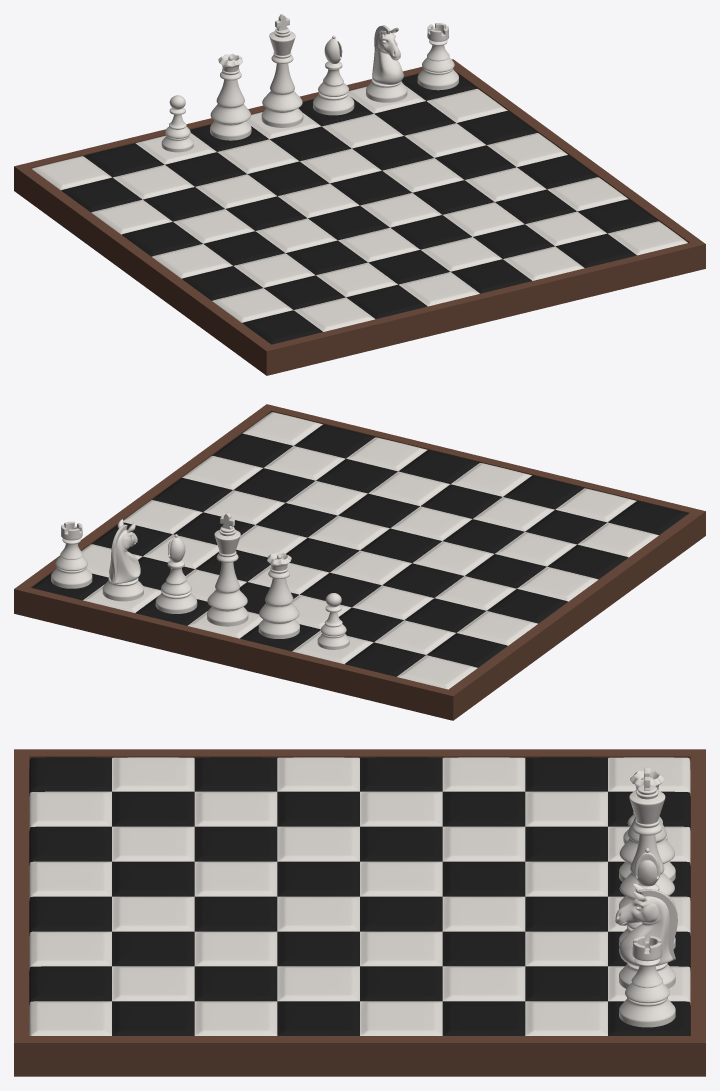
Rendered from chessBoard.fbx.
3 views of the same model, one above another, from view 1: azimuth 30°, elevation 25°; view 2: azimuth 150°, elevation 25°; view 3: azimuth 270°, elevation 25° (orthographic). The views are drawn at different scales.
Parts seen in each view (by area): view 1: Plane.001, Board border, King, Queen, Knight, Bishop, Tower, Pawn; view 2: Plane.001, Board border, King, Queen, Knight, Bishop, Tower, Pawn; view 3: Plane.001, Board border, Knight, Tower, King, Queen, Bishop.
Part boxes in pixels (x1=…): Plane.001: x1=32, y1=74, x2=687, y2=344; Board border: x1=14, y1=59, x2=705, y2=375; King: x1=261, y1=14, x2=303, y2=127; Queen: x1=210, y1=54, x2=251, y2=140; Knight: x1=366, y1=25, x2=407, y2=102; Bishop: x1=313, y1=35, x2=354, y2=115; Tower: x1=417, y1=23, x2=458, y2=90; Pawn: x1=161, y1=95, x2=193, y2=152; Plane.001: x1=32, y1=412, x2=688, y2=689; Board border: x1=14, y1=404, x2=705, y2=720; King: x1=207, y1=512, x2=248, y2=626; Queen: x1=258, y1=552, x2=299, y2=638; Knight: x1=102, y1=519, x2=143, y2=601; Bishop: x1=155, y1=534, x2=197, y2=613; Tower: x1=51, y1=521, x2=92, y2=588; Pawn: x1=317, y1=593, x2=349, y2=649; Plane.001: x1=29, y1=757, x2=690, y2=1035; Board border: x1=14, y1=749, x2=705, y2=1076; Knight: x1=615, y1=883, x2=677, y2=988; Tower: x1=619, y1=935, x2=675, y2=1027; King: x1=619, y1=767, x2=675, y2=909; Queen: x1=619, y1=771, x2=675, y2=881; Bishop: x1=619, y1=848, x2=675, y2=949.
Size of the model in its own units: 257 by 73.65 by 256.
